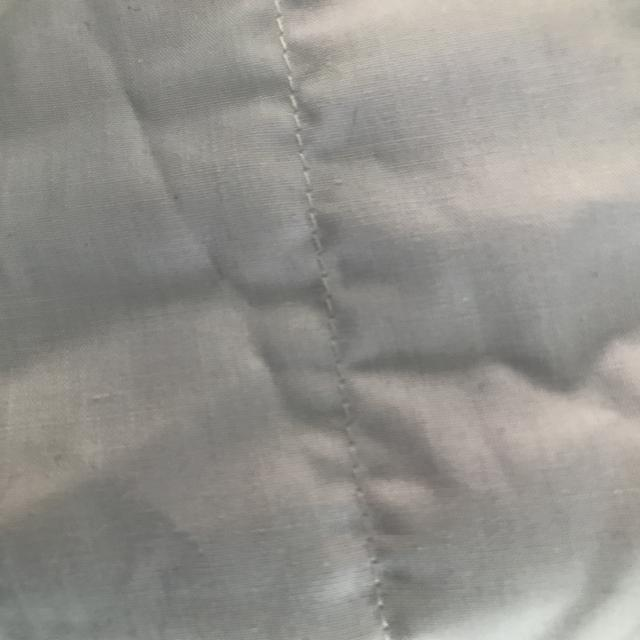good: (265, 59, 345, 231)
